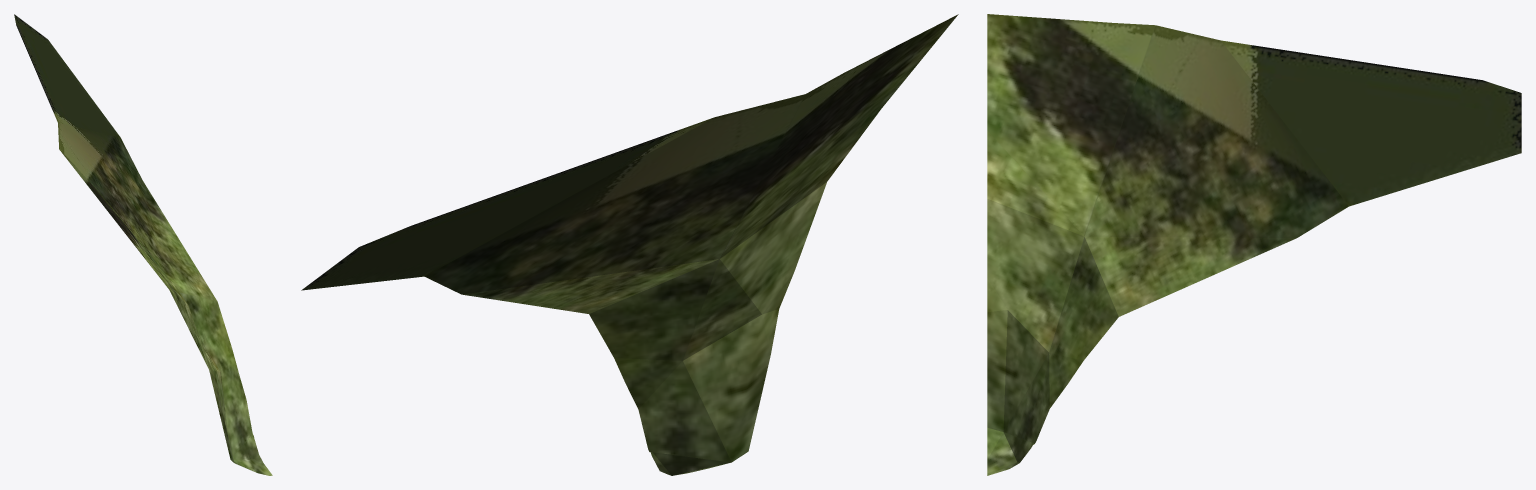
3 renders of one model, left to right at view 1: azimuth 30°, elevation 25°; view 2: azimuth 150°, elevation 25°; view 3: azimuth 270°, elevation 25°, orthographic. The views are drawn at different scales.
Bounding box in the file's own units: 2.46 × 4.48 × 5.9.
Materials: 1 (1 with a texture image).
